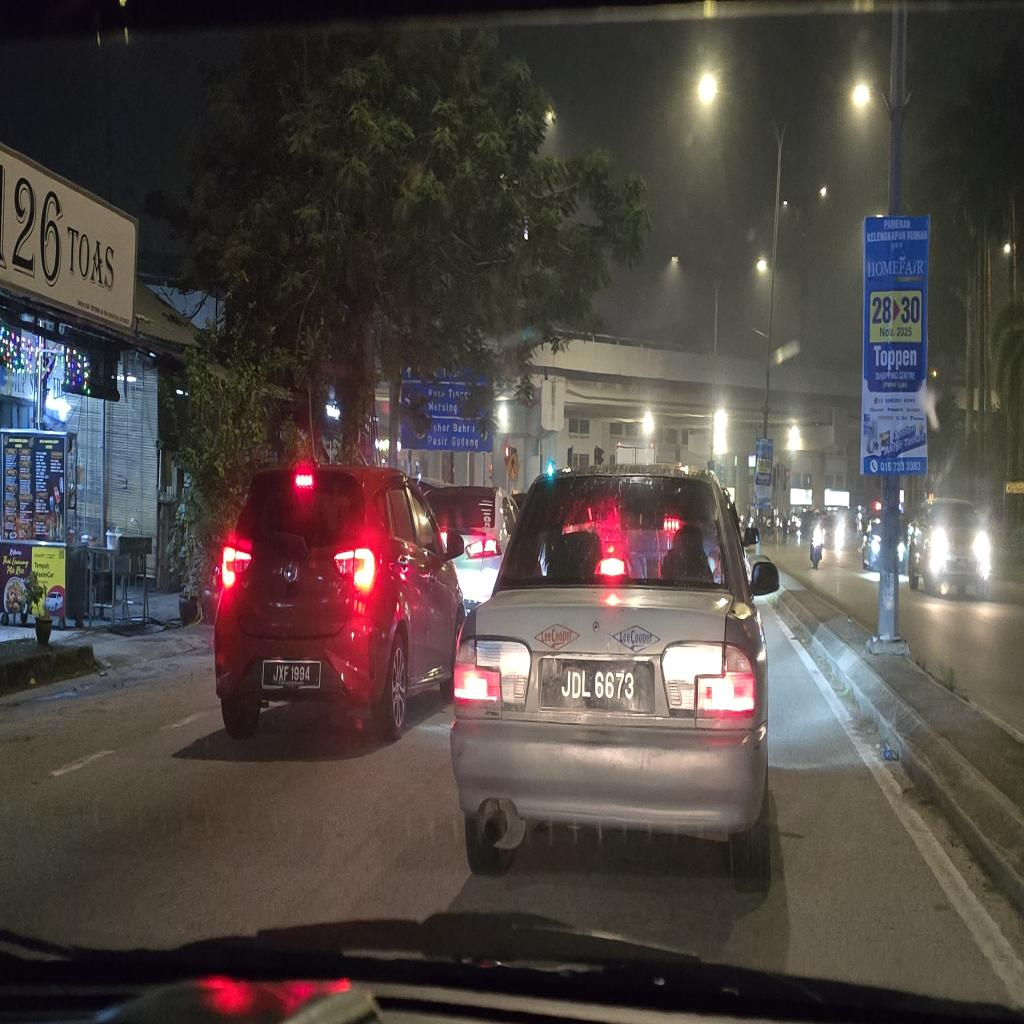car: (451, 466, 778, 884), (214, 466, 463, 737)
car plate: (540, 658, 654, 714), (262, 661, 321, 689)
